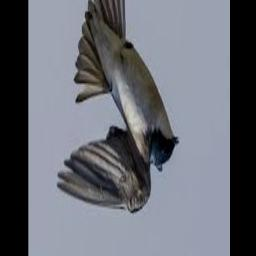Swallow: (57, 0, 179, 213)
